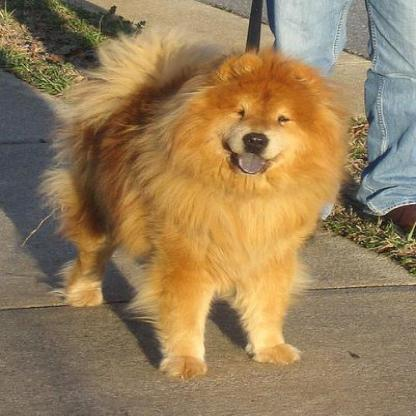chow: (22, 21, 344, 380)
